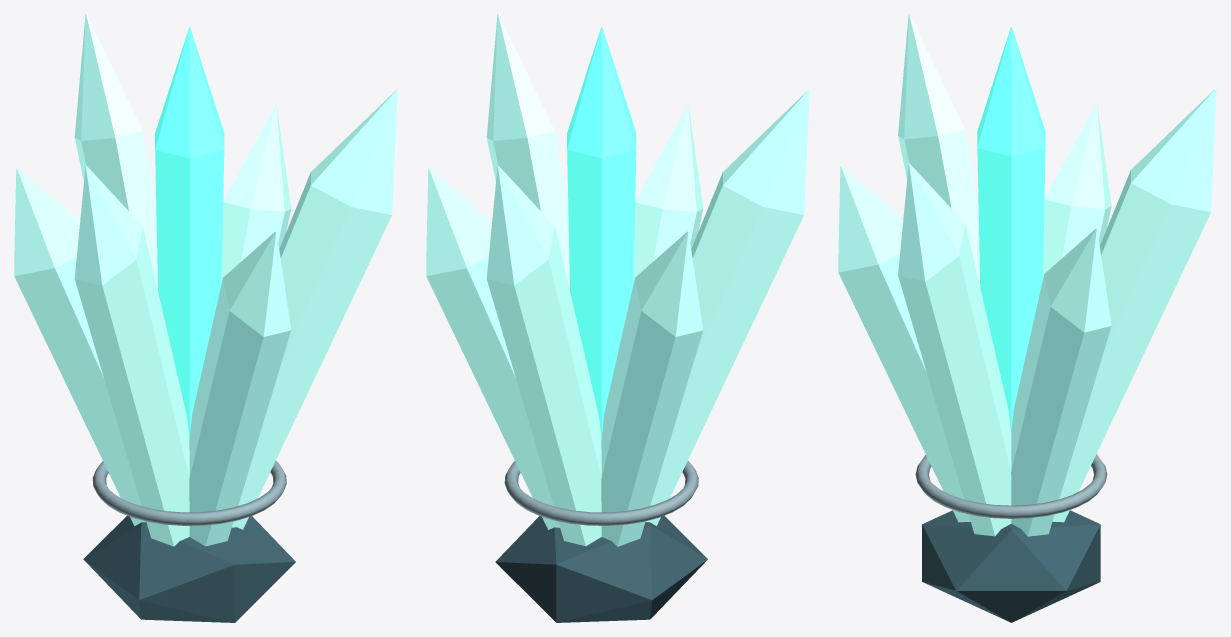
The model's file is prism-fern.glb.
3 views of the same model, side by side, from view 1: azimuth 30°, elevation 25°; view 2: azimuth 150°, elevation 25°; view 3: azimuth 270°, elevation 25° (orthographic).
Parts seen in each view (by area): view 1: Vesper / prism-fern; view 2: Vesper / prism-fern; view 3: Vesper / prism-fern.
Boxes of the visible parts, <box> form: Vesper / prism-fern: <box>14,14,397,622</box>; Vesper / prism-fern: <box>426,14,809,622</box>; Vesper / prism-fern: <box>838,14,1216,622</box>.
Size of the model in its own units: 1.38 by 2.41 by 1.44.
